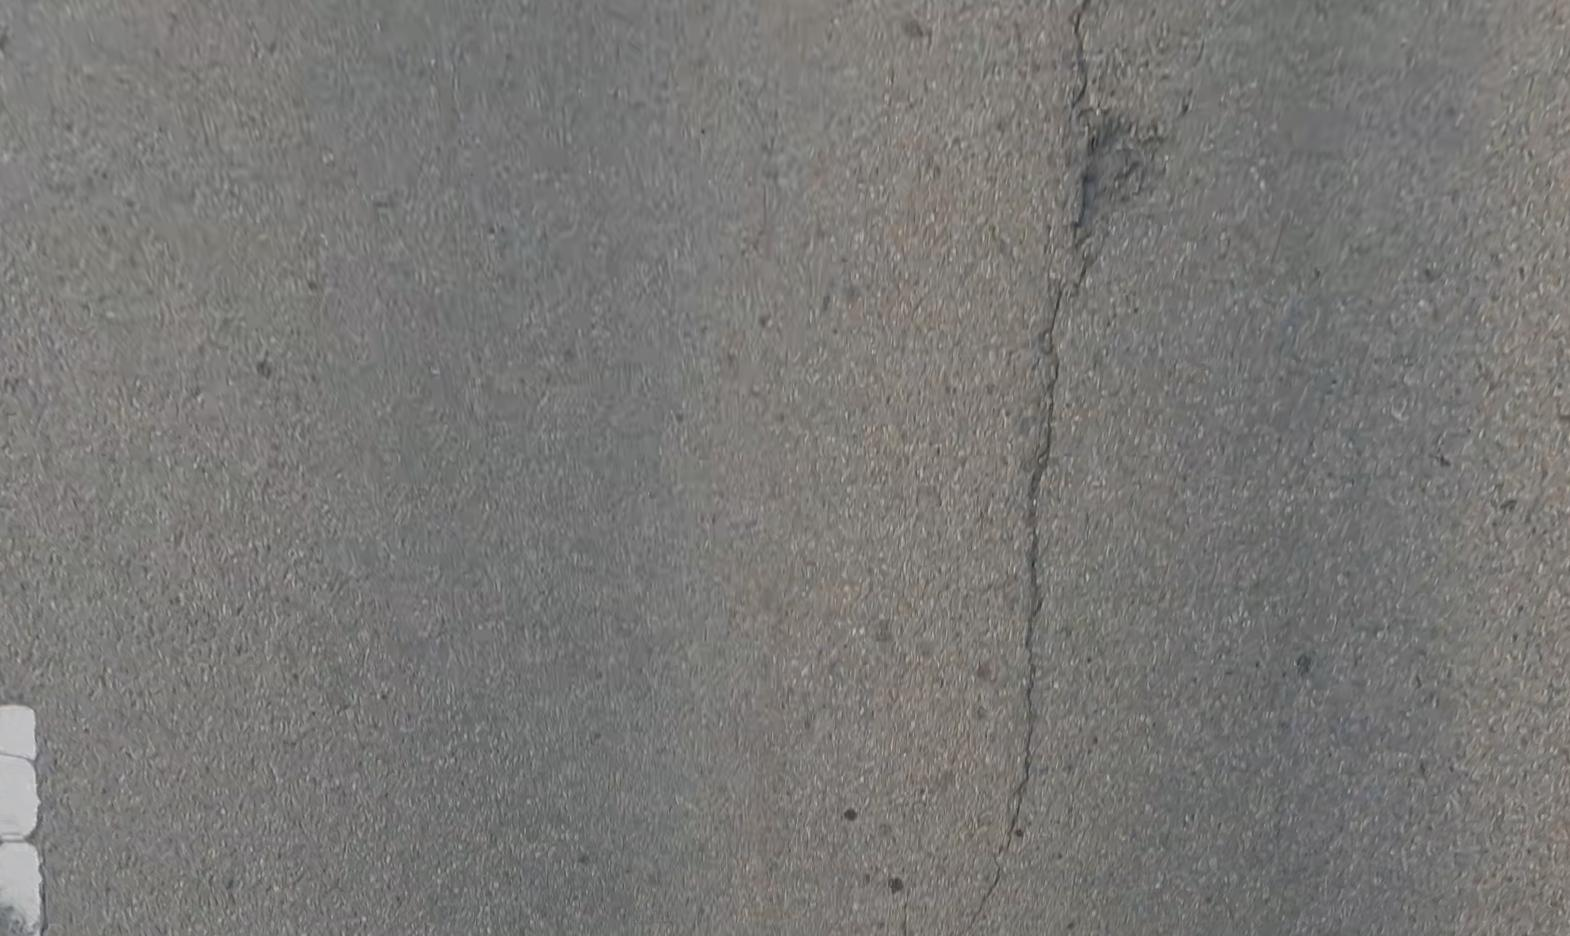pothole: (1077, 111, 1161, 248)
